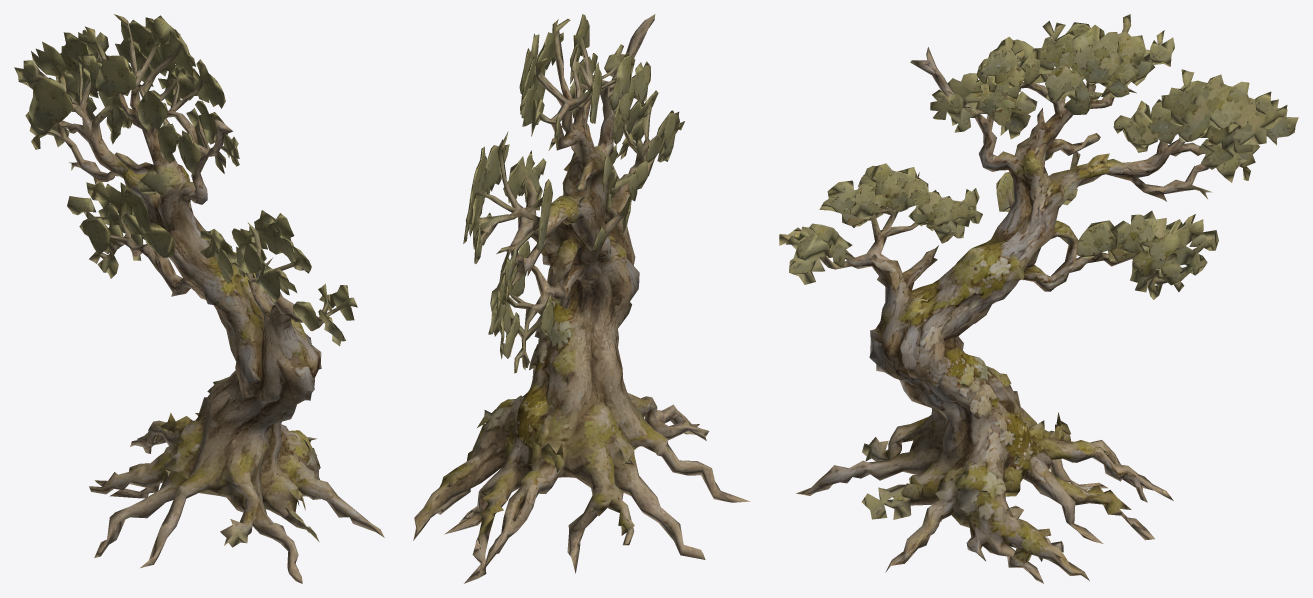
Rendered from raw.glb.
3 views of the same model, side by side, from view 1: azimuth 30°, elevation 25°; view 2: azimuth 150°, elevation 25°; view 3: azimuth 270°, elevation 25° (orthographic). The views are drawn at different scales.
Parts seen in each view (by area): view 1: tripo_node_68783124-b4c6-4edd-85ad-1742eaf97da1; view 2: tripo_node_68783124-b4c6-4edd-85ad-1742eaf97da1; view 3: tripo_node_68783124-b4c6-4edd-85ad-1742eaf97da1.
Part boxes in pixels (<box>): tripo_node_68783124-b4c6-4edd-85ad-1742eaf97da1: <box>14,14,384,583</box>; tripo_node_68783124-b4c6-4edd-85ad-1742eaf97da1: <box>413,14,750,583</box>; tripo_node_68783124-b4c6-4edd-85ad-1742eaf97da1: <box>779,14,1298,583</box>.
Size of the model in its own units: 0.4965 by 1 by 0.9397.
1 material, 1 textured.
